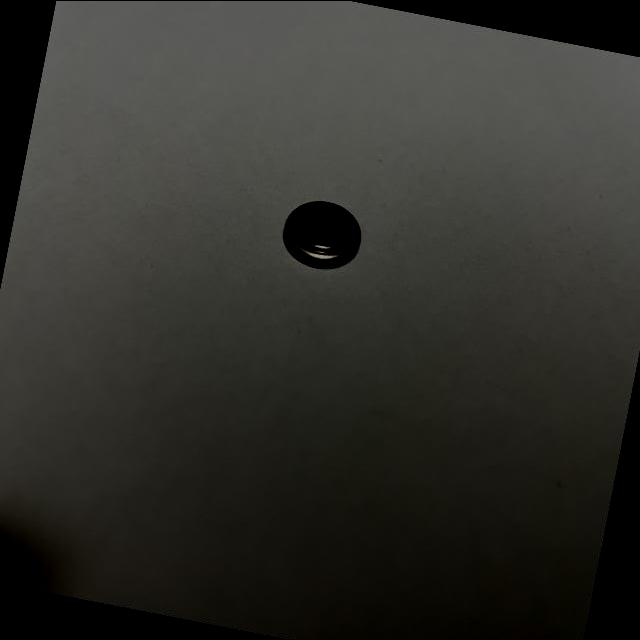COIN: (278, 194, 368, 276)
